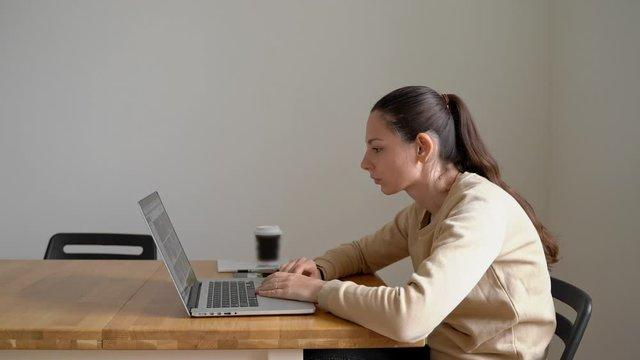Bad Sitting Posture: (166, 56, 609, 330)
